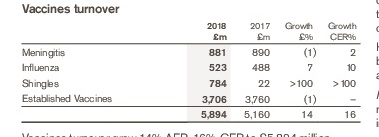table: (0, 0, 379, 137)
